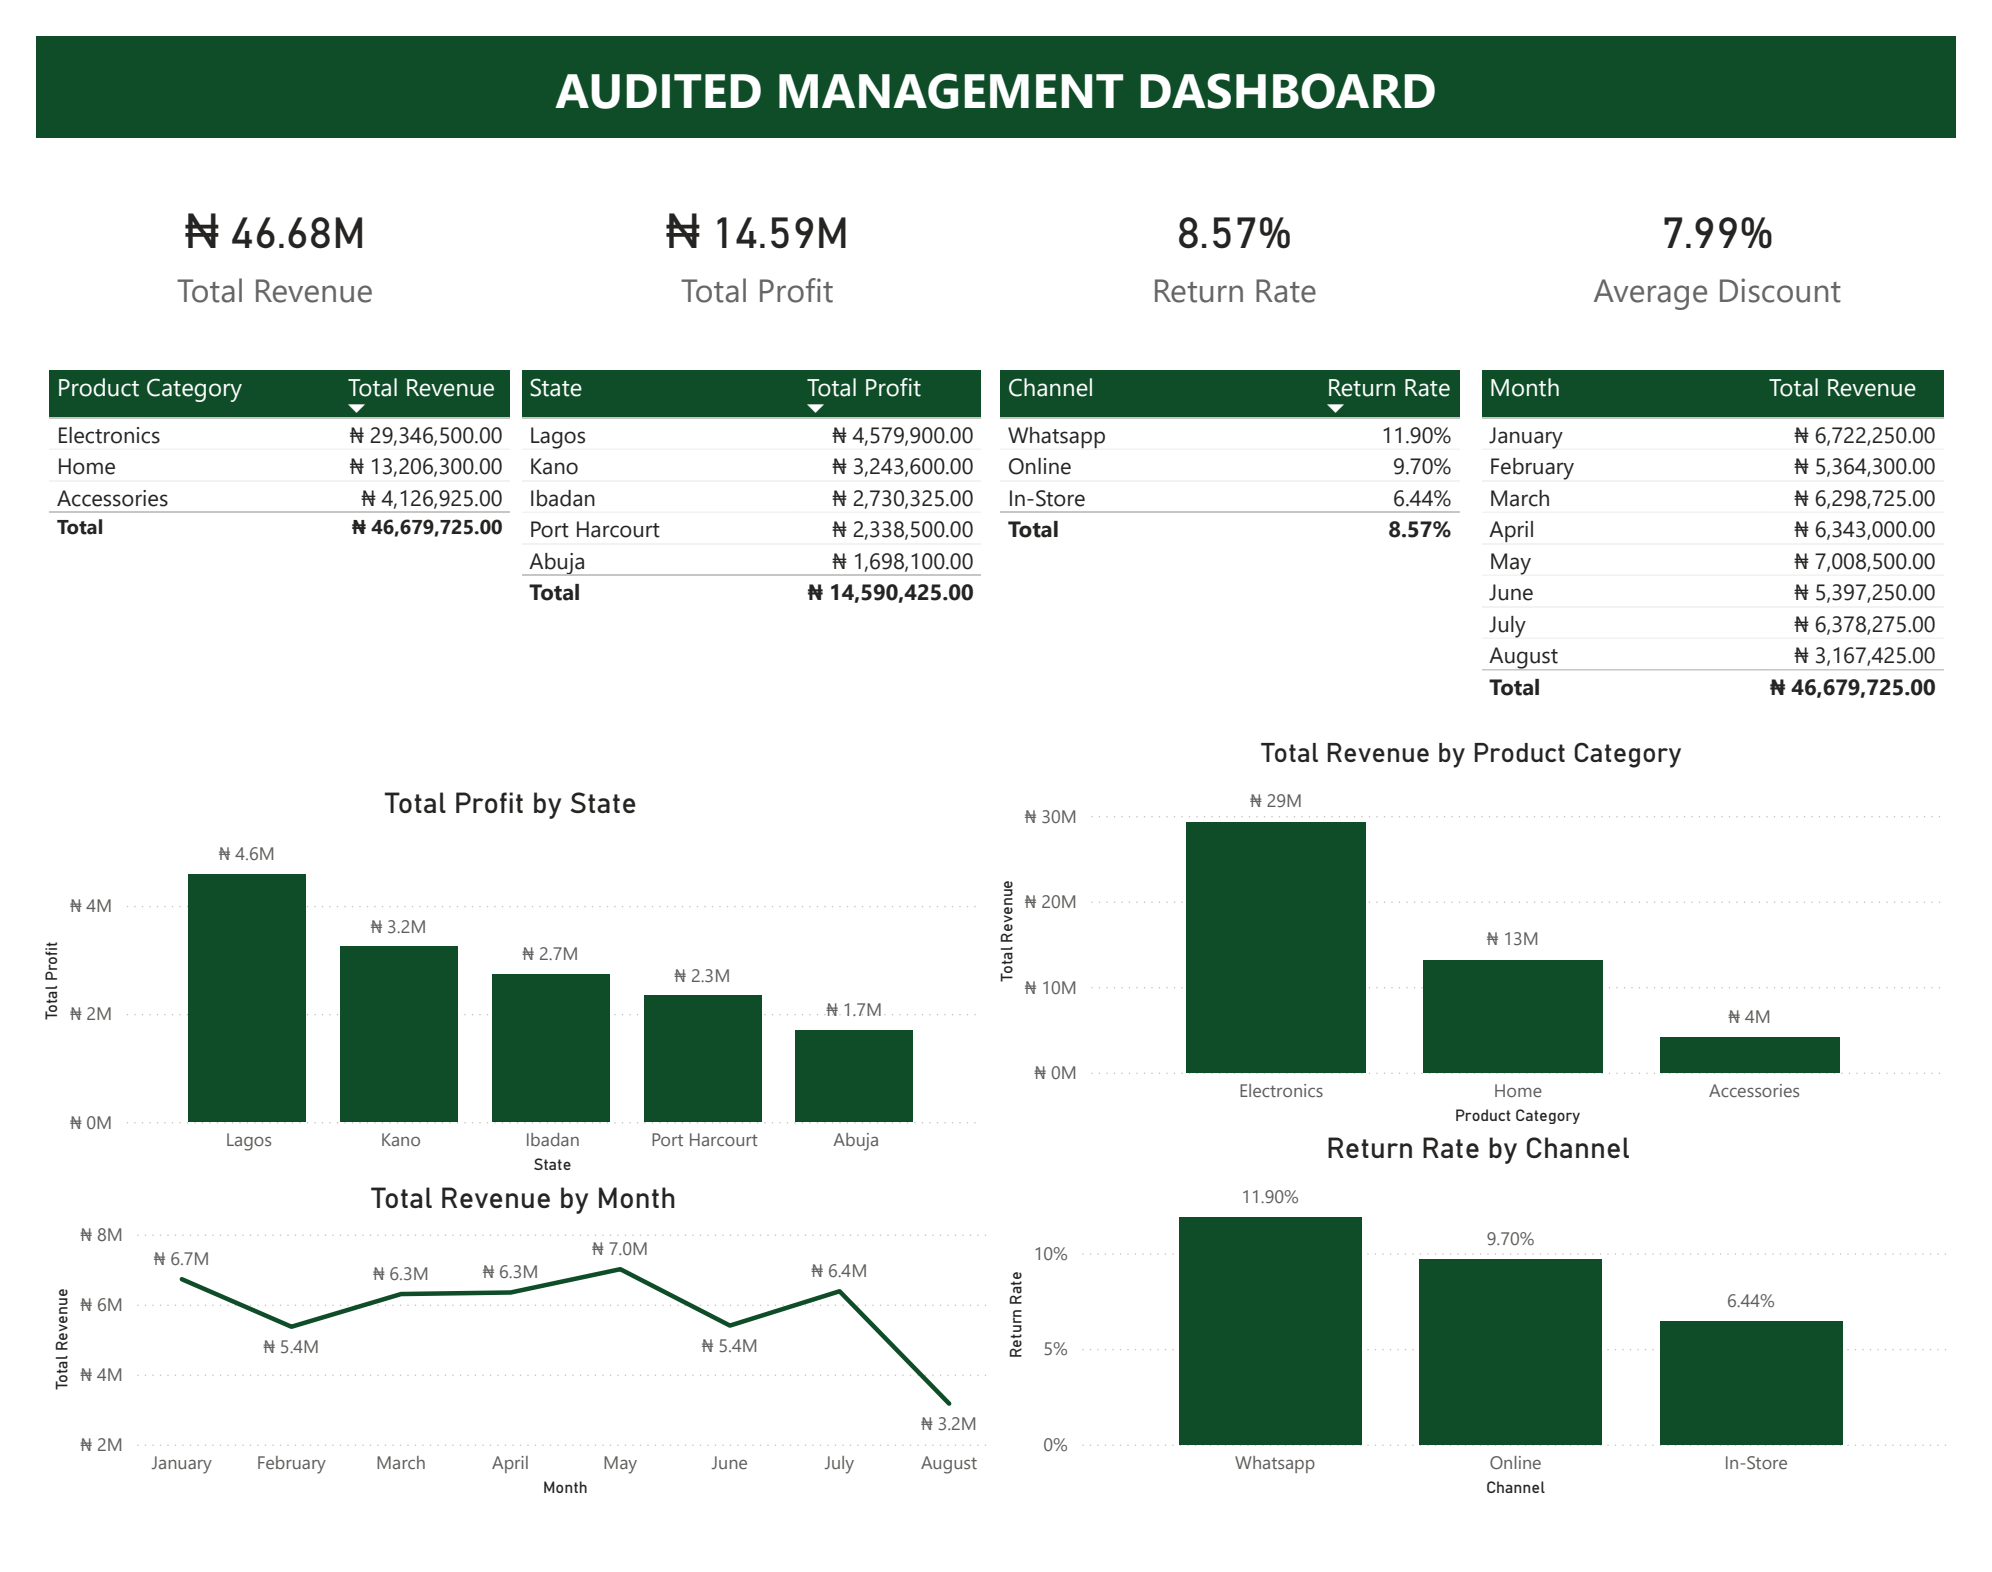

The page's visual inventory and layout, read from the dashboard file:
{"tool":"powerbi","page":{"name":"Page 1","canvas":[1280,1000],"ordinal":0},"visuals":[{"type":"shape","title":"Audited Management Dashboard","box":[0,0,1280,47],"z":0},{"type":"card","fields":{"Values":["Table1.Total Revenue"]},"box":[0,47.7,321,99.8],"z":1000},{"type":"card","fields":{"Values":["Table1.Total Profit"]},"box":[321,47.7,320,99.8],"z":2000},{"type":"card","fields":{"Values":["Table1.Return Rate"]},"box":[640.5,47.7,319.5,99.8],"z":3000},{"type":"card","fields":{"Values":["Table1.Avg Discount"]},"box":[960,47.7,319.5,99.8],"z":4000},{"type":"clusteredColumnChart","fields":{"Category":["Table1.State"],"Y":["Table1.Total Profit"]},"box":[0,377.5,640.6,303.2],"z":5000},{"type":"clusteredColumnChart","title":"Total Revenue by Product Category","fields":{"Category":["Table1.Product_Category"],"Y":["Table1.Total Revenue"]},"box":[650.6,377.5,628.5,303.2],"z":6000},{"type":"lineChart","fields":{"Category":["Table1.Date.Variation.Date Hierarchy.Month"],"Y":["Table1.Total Revenue"]},"box":[0,712.9,640.6,285.1],"z":7000},{"type":"clusteredColumnChart","fields":{"Y":["Table1.Return Rate"],"Category":["Table1.Channel"]},"box":[650.6,712.9,628.5,287.1],"z":8000},{"type":"tableEx","fields":{"Values":["Table1.Channel","Table1.Return Rate"]},"box":[658.6,146.6,301.2,212.9],"z":9000},{"type":"tableEx","fields":{"Values":["Table1.Date.Variation.Date Hierarchy.Month","Table1.Total Revenue"]},"box":[978.9,148.2,299.5,211.5],"z":10000},{"type":"tableEx","fields":{"Values":["Table1.State","Table1.Total Profit"]},"box":[331.3,146.6,301.2,212.9],"z":11000},{"type":"tableEx","fields":{"Values":["Table1.Product_Category","Table1.Total Revenue"]},"box":[0,146.6,301.2,212.9],"z":12000}]}

Visuals, with their boxes in screenshot pixels (x1, y1, x2, y2), scaled from the page's 1280x1000 canvas onto the 1992x1572 screenshot:
"Audited Management Dashboard" shape: (x1=0, y1=0, x2=1991, y2=74)
card - Table1.Total Revenue: (x1=0, y1=75, x2=500, y2=232)
card - Table1.Total Profit: (x1=500, y1=75, x2=998, y2=232)
card - Table1.Return Rate: (x1=997, y1=75, x2=1494, y2=232)
card - Table1.Avg Discount: (x1=1494, y1=75, x2=1991, y2=232)
clusteredColumnChart - Table1.State x Table1.Total Profit: (x1=0, y1=593, x2=997, y2=1070)
"Total Revenue by Product Category" clusteredColumnChart: (x1=1012, y1=593, x2=1991, y2=1070)
lineChart - Table1.Date.Variation.Date Hierarchy.Month x Table1.Total Revenue: (x1=0, y1=1121, x2=997, y2=1569)
clusteredColumnChart - Table1.Return Rate x Table1.Channel: (x1=1012, y1=1121, x2=1991, y2=1571)
tableEx - Table1.Channel x Table1.Return Rate: (x1=1025, y1=230, x2=1494, y2=565)
tableEx - Table1.Date.Variation.Date Hierarchy.Month x Table1.Total Revenue: (x1=1523, y1=233, x2=1990, y2=565)
tableEx - Table1.State x Table1.Total Profit: (x1=516, y1=230, x2=984, y2=565)
tableEx - Table1.Product_Category x Table1.Total Revenue: (x1=0, y1=230, x2=469, y2=565)
